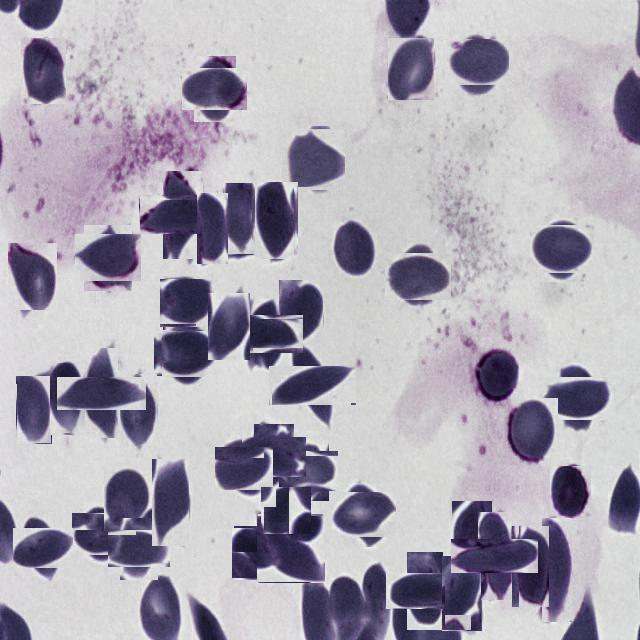red blood cell: (258, 514, 324, 582), (280, 353, 344, 418), (151, 182, 215, 246), (70, 362, 132, 423), (464, 526, 526, 586), (283, 128, 344, 188), (548, 368, 608, 428), (254, 182, 298, 260), (236, 304, 294, 362), (396, 562, 454, 620), (6, 243, 56, 310), (506, 398, 558, 462), (390, 248, 447, 305), (152, 459, 189, 546), (533, 222, 590, 278), (80, 230, 136, 286), (448, 34, 504, 90), (104, 466, 152, 531), (542, 518, 572, 622), (512, 526, 550, 608), (158, 326, 213, 382), (336, 488, 392, 542), (442, 556, 482, 631), (188, 61, 242, 116), (21, 38, 66, 104), (279, 280, 323, 345), (388, 38, 434, 100), (208, 293, 250, 360), (452, 501, 492, 571), (332, 216, 376, 278), (233, 527, 285, 579), (248, 430, 300, 482), (120, 374, 157, 446), (76, 508, 126, 560), (218, 444, 270, 494), (50, 362, 86, 434), (162, 277, 212, 328), (223, 183, 258, 255), (284, 446, 334, 496), (114, 524, 164, 574), (18, 523, 68, 573), (261, 486, 311, 535), (16, 376, 52, 444), (474, 348, 518, 400), (197, 193, 228, 264), (550, 466, 591, 516)
